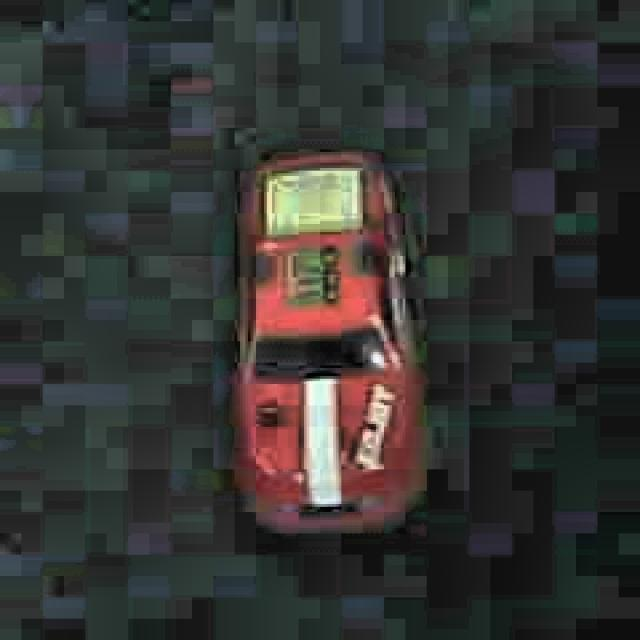car: (222, 141, 433, 548)
